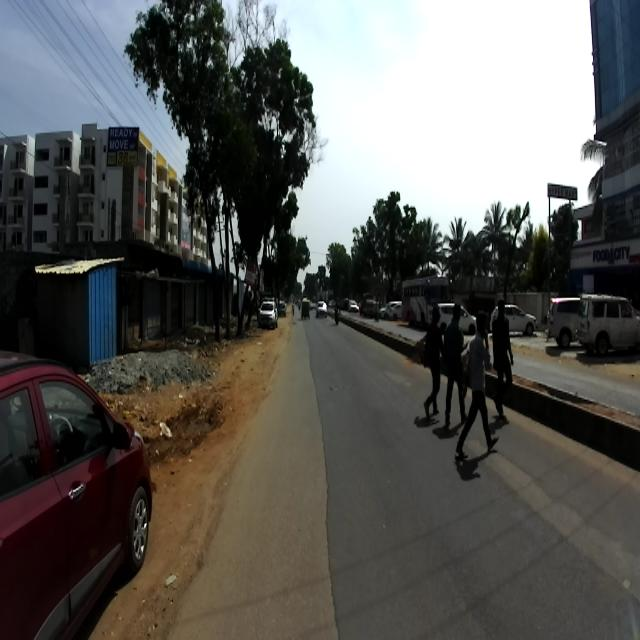car ahead at: (0, 353, 155, 633)
person ahead at: (458, 314, 493, 468), (426, 294, 446, 422)
